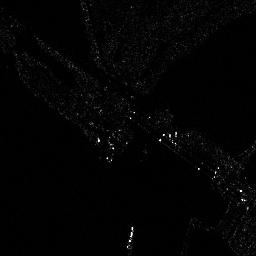ship: (123, 225, 136, 249)
